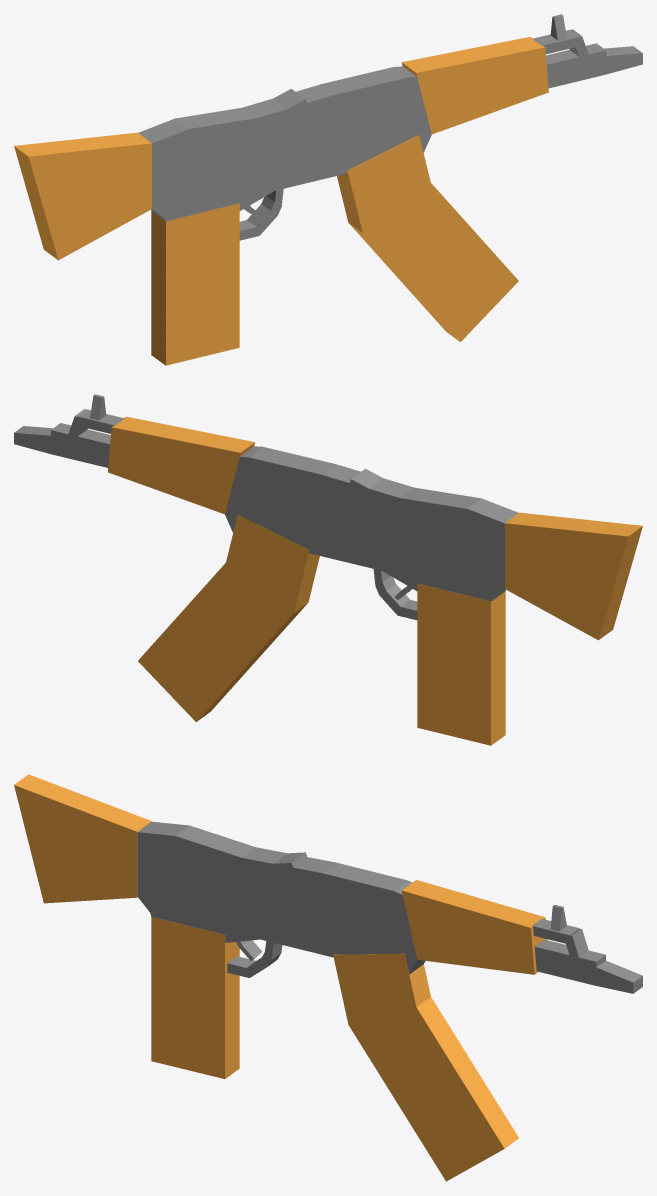
The model's file is akfortyseven01.fbx.
3 views of the same model, one above another, from view 1: azimuth 30°, elevation 25°; view 2: azimuth 150°, elevation 25°; view 3: azimuth 330°, elevation 25° (orthographic).
Visible parts, largest first — view 1: Cube.003, Cube.007, Cube.004, Cube.006, Cube.005, Cube.008, Cube.001, Cube.002, Cube.011, Cube.015, Cube.009, Cube.010; view 2: Cube.006, Cube.007, Cube.004, Cube.003, Cube.008, Cube.001, Cube.002, Cube.005, Cube.011, Cube.009, Cube.015, Cube.010; view 3: Cube.003, Cube.007, Cube.004, Cube.006, Cube.008, Cube.005, Cube.001, Cube.002, Cube.011, Cube.009, Cube.010.
Part boxes in pixels (x1,y1,x2,y2): Cube.003: (349,172,518,341); Cube.007: (151,203,239,365); Cube.004: (14,132,151,260); Cube.006: (242,66,431,191); Cube.005: (138,108,260,217); Cube.008: (401,36,548,134); Cube.001: (151,89,327,221); Cube.002: (337,135,432,232); Cube.011: (546,43,606,88); Cube.015: (247,189,283,235); Cube.009: (604,46,642,74); Cube.010: (532,29,579,54); Cube.006: (225,446,414,572); Cube.007: (417,583,505,745); Cube.004: (505,512,642,640); Cube.003: (138,563,307,721); Cube.008: (108,416,254,514); Cube.001: (350,468,505,601); Cube.002: (222,515,319,612); Cube.005: (396,487,518,597); Cube.011: (51,423,110,467); Cube.009: (14,426,52,453); Cube.015: (373,569,409,615); Cube.010: (77,409,124,433); Cube.003: (348,992,518,1181); Cube.007: (151,917,239,1078); Cube.004: (14,774,151,903); Cube.006: (242,847,425,974); Cube.008: (402,880,547,974); Cube.005: (137,821,255,936); Cube.001: (150,852,312,942); Cube.002: (333,953,430,1024); Cube.011: (534,939,605,985); Cube.009: (596,960,642,993); Cube.010: (532,919,579,944).
Bounding box in the file's own units: 241 × 110 × 9.85.
